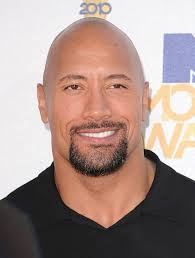face: (35, 14, 155, 185)
